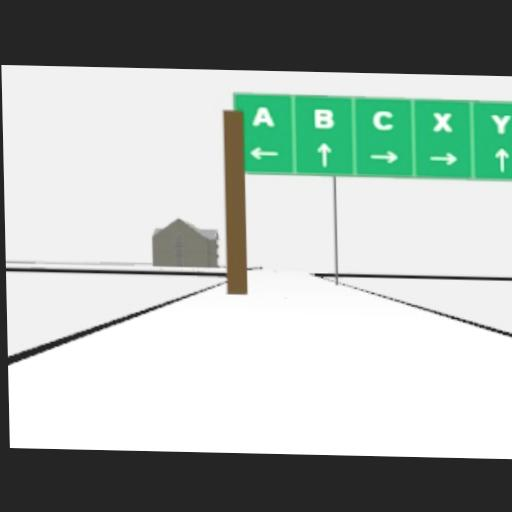A: (252, 105, 273, 125)
B: (312, 107, 333, 127)
C: (373, 108, 394, 129)
Left: (248, 146, 279, 160)
Right: (367, 149, 398, 162), (428, 151, 456, 165)
Straight: (493, 145, 509, 171), (316, 140, 330, 166)
X: (431, 110, 452, 130)
Y: (490, 113, 511, 133)
